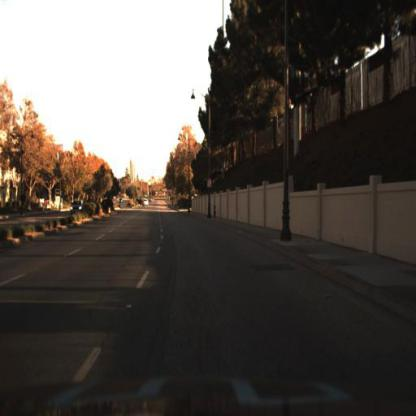car: (70, 199, 85, 217), (140, 196, 152, 215)
